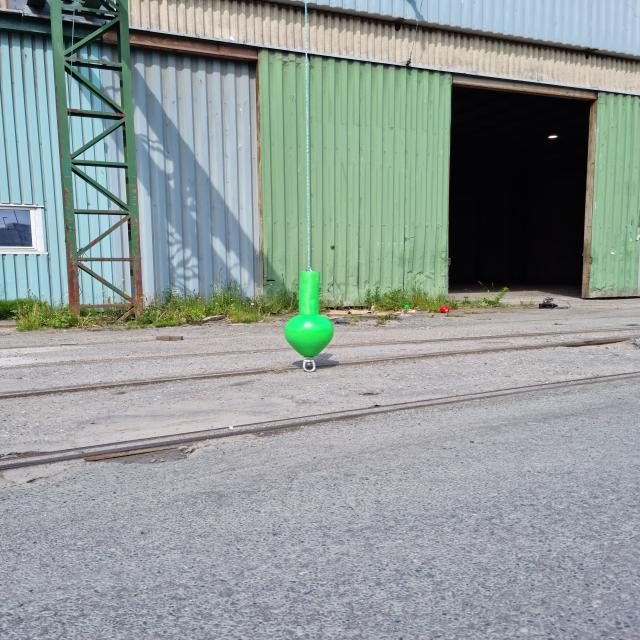green: (284, 272, 334, 359)
